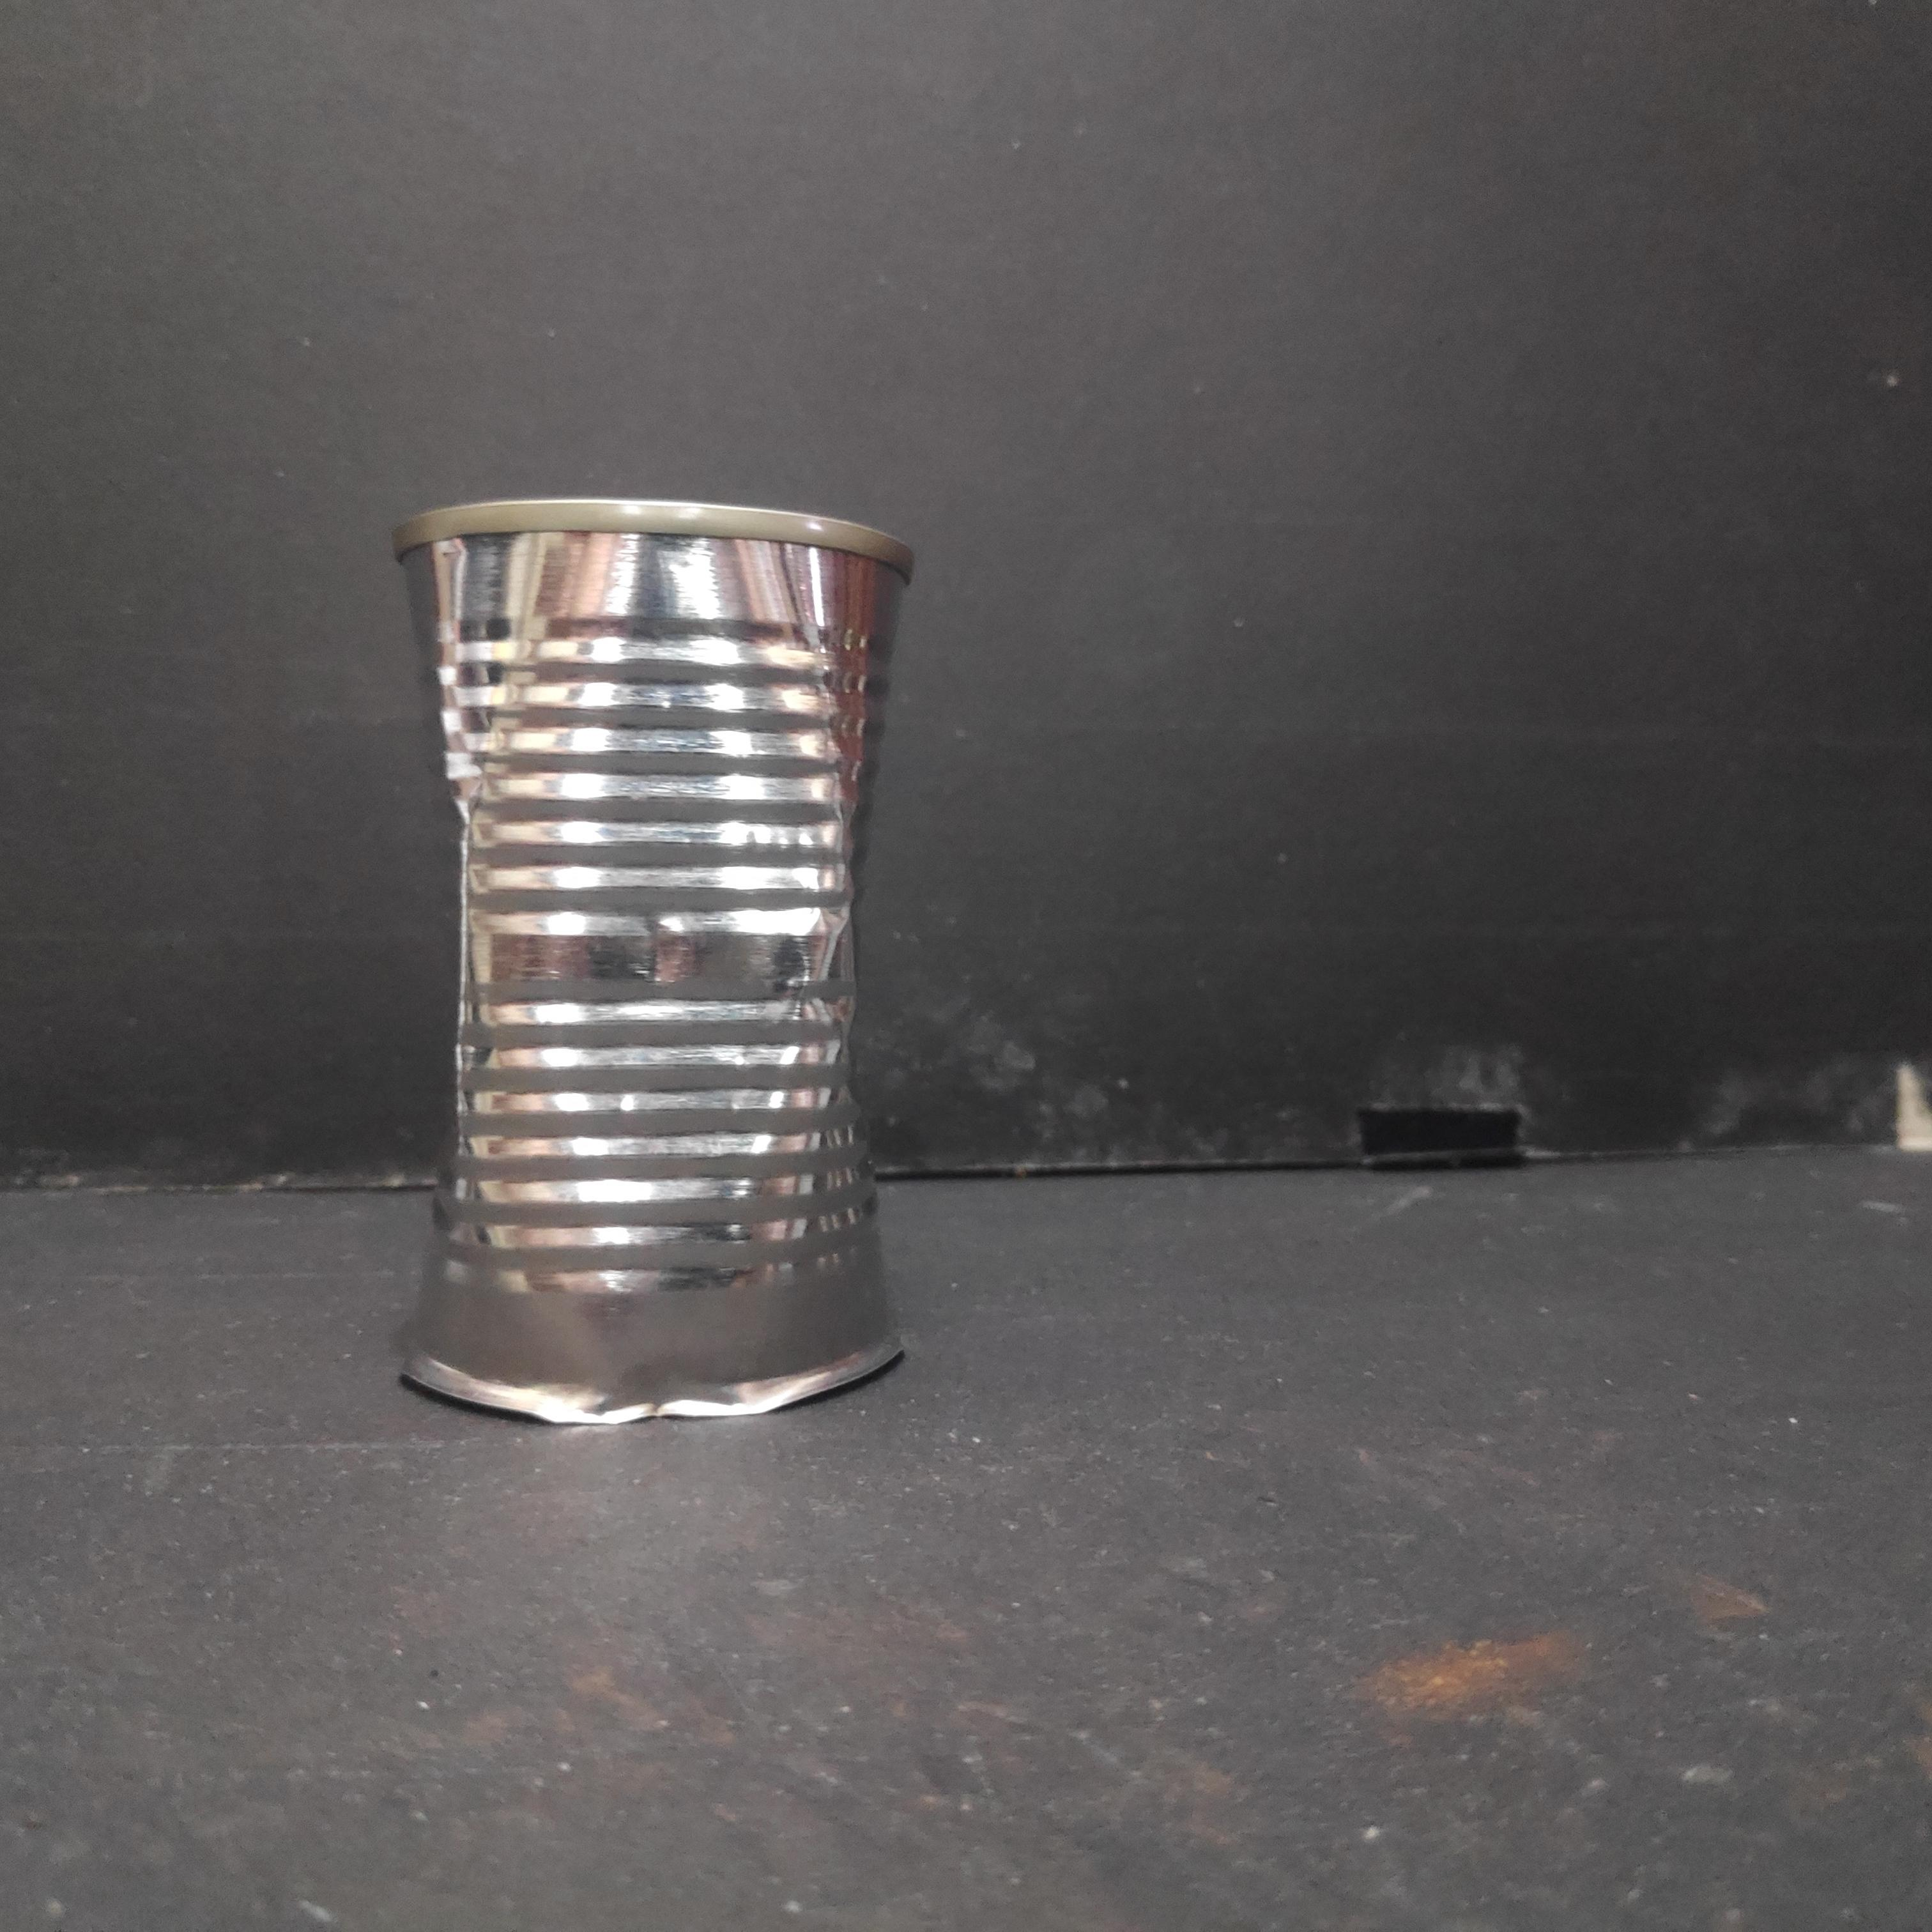Minor Defect: (382, 495, 927, 1431)
